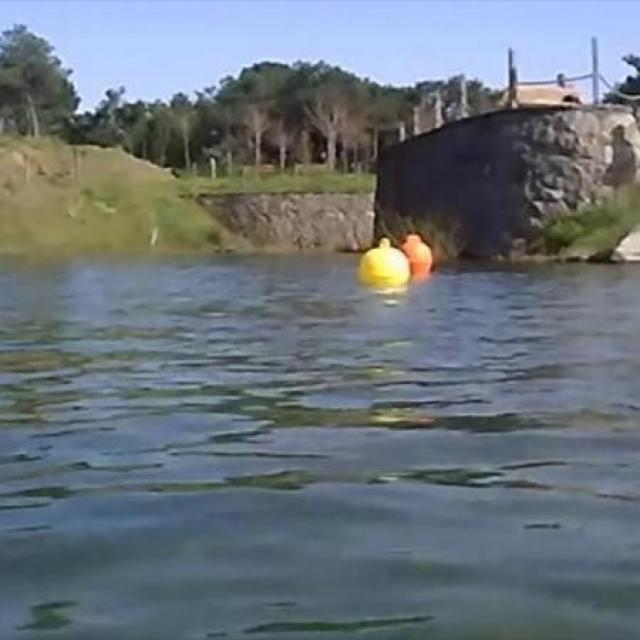buoy: (358, 242, 412, 296), (402, 229, 432, 279)
